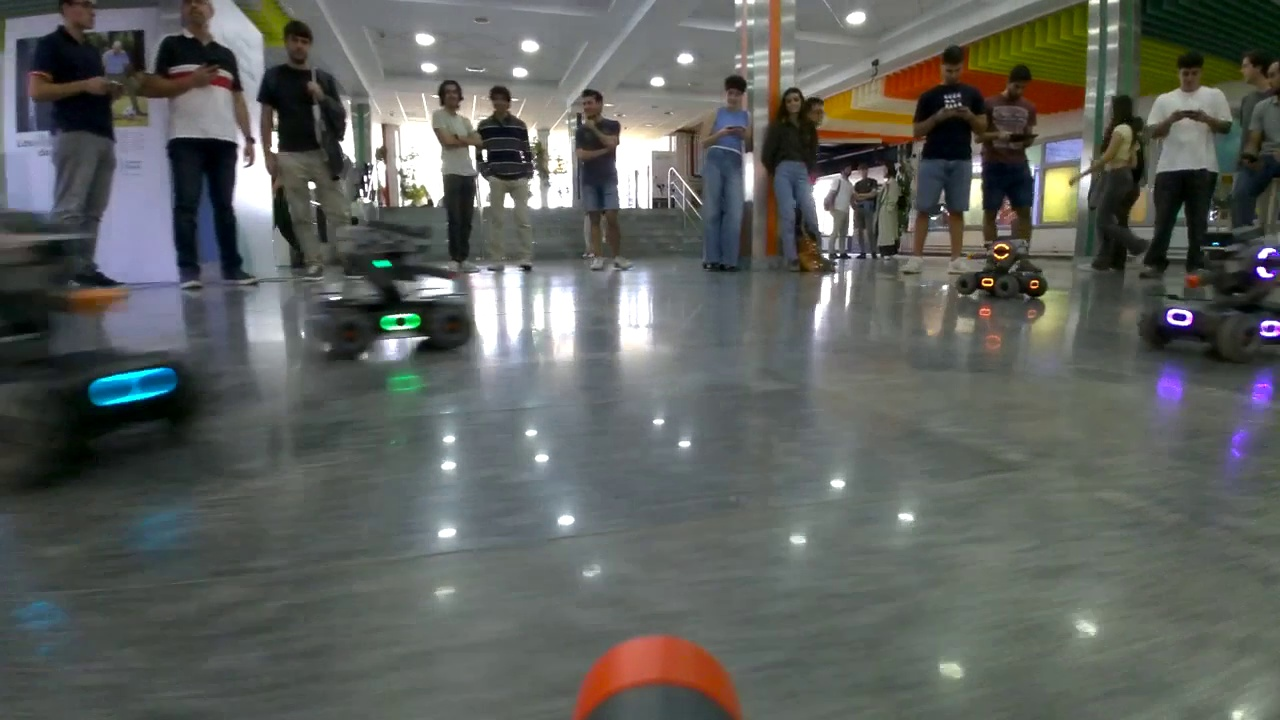robot: (2, 226, 193, 484), (310, 238, 475, 358), (1134, 236, 1280, 365), (953, 240, 1048, 301)
